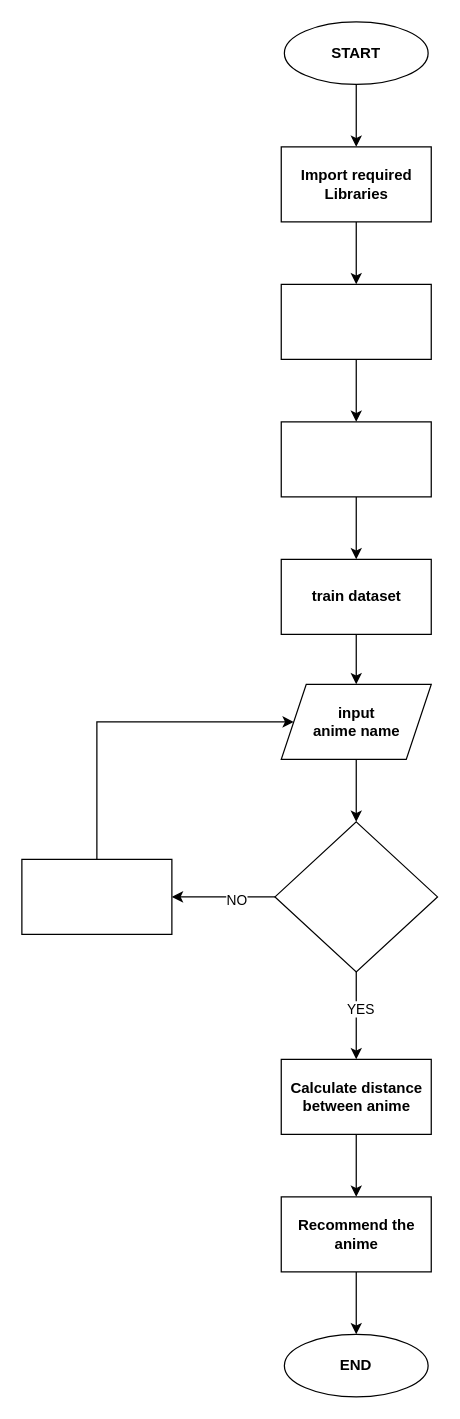
This 460x1419 diagram has some shape labels left out. Here are the shapes that lost their labels. From the top down, the centre of each, then its label:
At (x=355, y=321): "Read and Merge csv files".
At (x=355, y=459): "REMOVE null values".
At (x=96, y=896): "Display error".
At (x=356, y=896): "Anime exist?".
